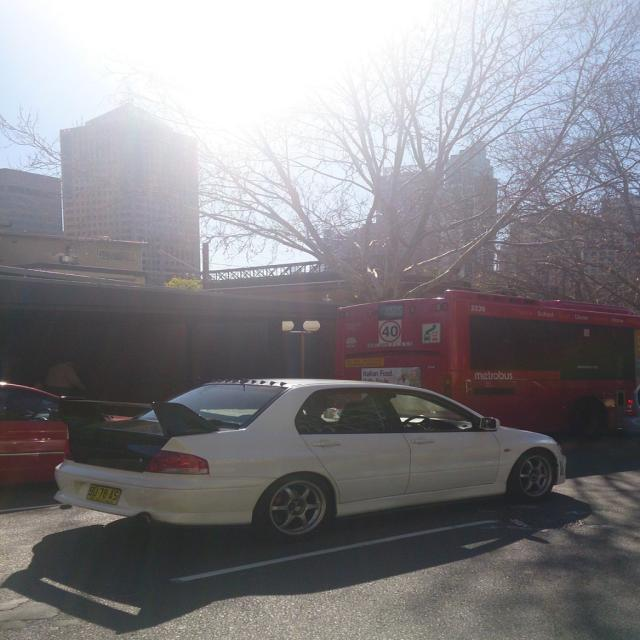car: (44, 373, 566, 539)
